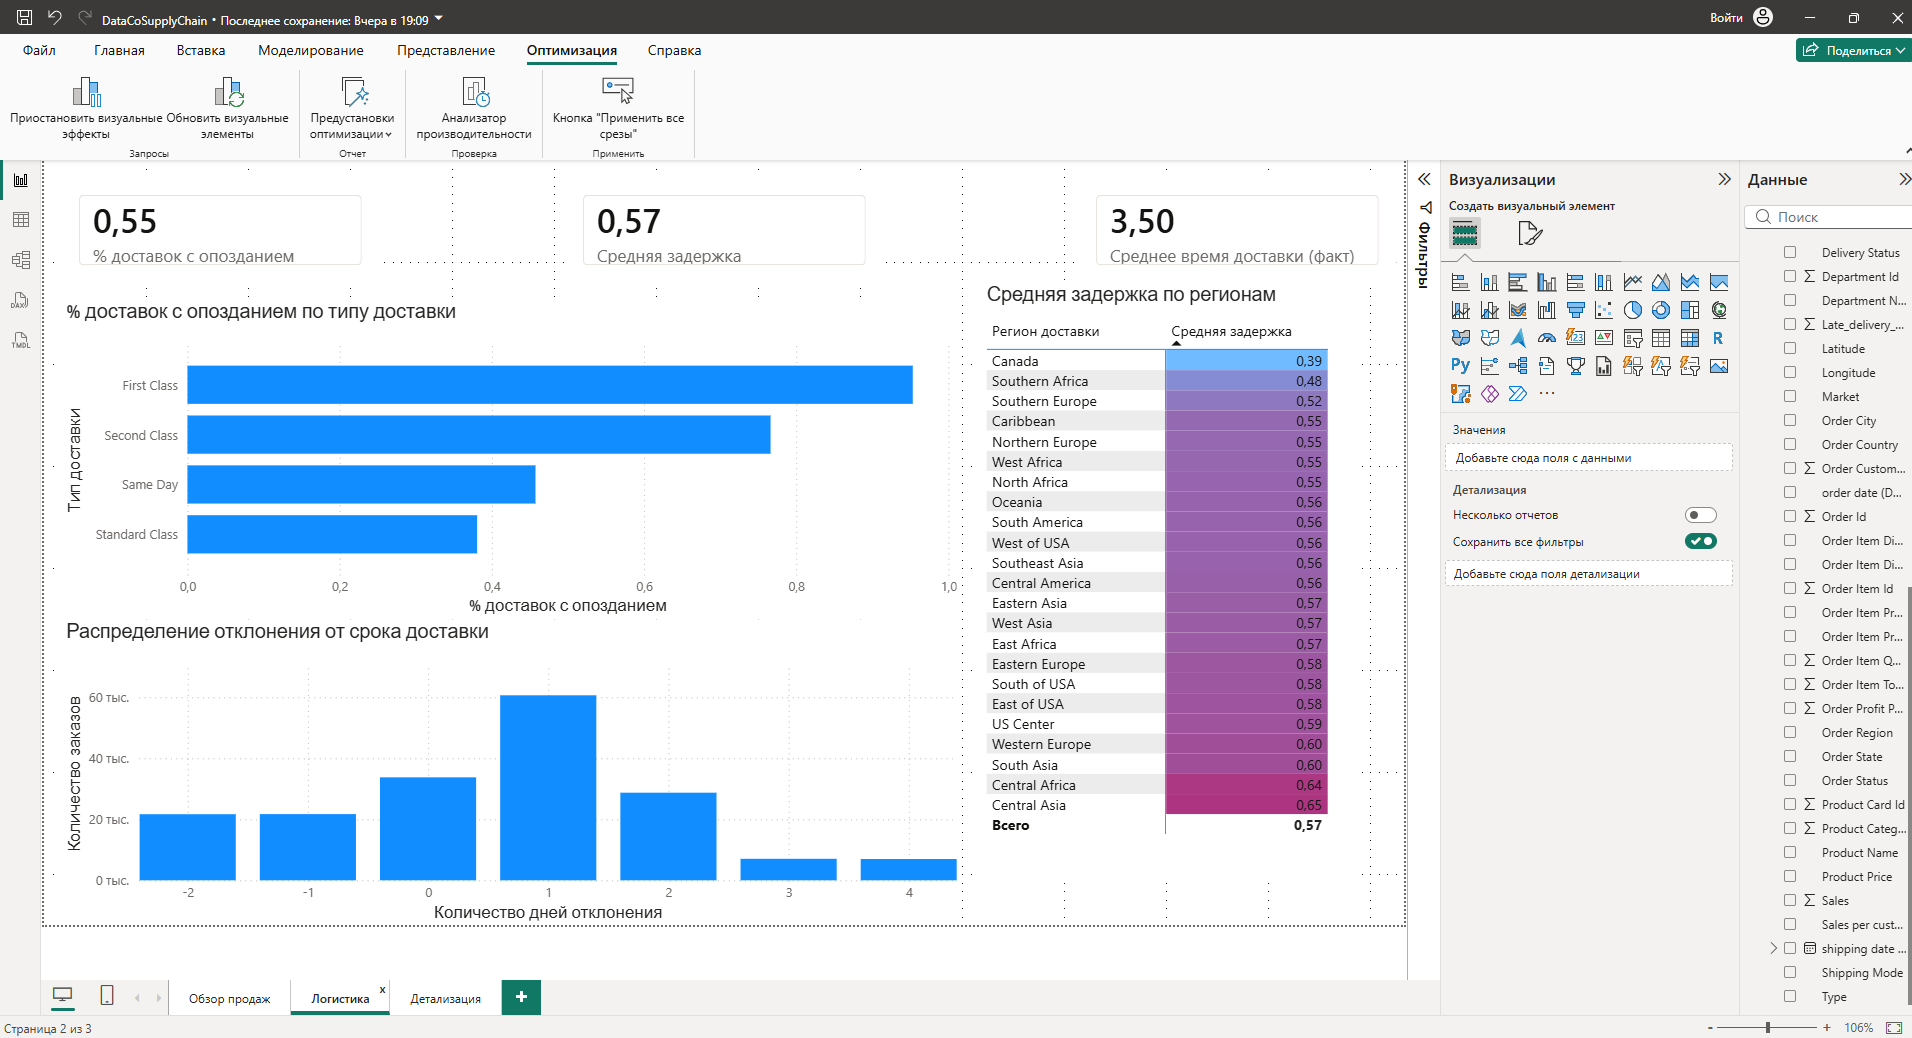

Layout of this report page (visuals, bound fields, positions):
{"tool":"powerbi","page":{"name":"Логистика","canvas":[1280,720],"ordinal":1},"visuals":[{"type":"cardVisual","fields":{"Data":["DataCoSupplyChainDataset.% доставок с опозданием"]},"box":[16,16,300,100],"z":0},{"type":"cardVisual","fields":{"Data":["DataCoSupplyChainDataset.Средняя задержка"]},"box":[489.9,15.8,300,100],"z":1000},{"type":"cardVisual","fields":{"Data":["DataCoSupplyChainDataset.Среднее время доставки (факт)"]},"box":[972.9,15.8,300,100],"z":2000},{"type":"clusteredBarChart","title":"% доставок с опозданием по типу доставки","fields":{"Category":["DataCoSupplyChainDataset.Shipping Mode"],"Y":["DataCoSupplyChainDataset.% доставок с опозданием"]},"box":[15.8,131.6,848.2,300.9],"z":3000},{"type":"pivotTable","title":"Средняя задержка по регионам","fields":{"Rows":["DataCoSupplyChainDataset.Order Region"],"Values":["DataCoSupplyChainDataset.Средняя задержка"]},"box":[876.9,115.8,358.3,561.2],"z":4000},{"type":"columnChart","title":"Распределение отклонения от срока доставки","fields":{"Category":["DataCoSupplyChainDataset.Delivery Delay (ячейки)"],"Y":["CountNonNull(DataCoSupplyChainDataset.Delivery Delay)"]},"box":[15.8,432.5,848.2,288],"z":5000}]}

Visuals, with their boxes on the page's 1280x720 design canvas (x1, y1, x2, y2). These are canvas units, not pixel positions in the 1912x1038 screenshot, which may show the page scaled, cropped or inside an application window:
cardVisual - DataCoSupplyChainDataset.% доставок с опозданием: [x1=16, y1=16, x2=316, y2=116]
cardVisual - DataCoSupplyChainDataset.Средняя задержка: [x1=490, y1=16, x2=790, y2=116]
cardVisual - DataCoSupplyChainDataset.Среднее время доставки (факт): [x1=973, y1=16, x2=1273, y2=116]
"% доставок с опозданием по типу доставки" clusteredBarChart: [x1=16, y1=132, x2=864, y2=432]
"Средняя задержка по регионам" pivotTable: [x1=877, y1=116, x2=1235, y2=677]
"Распределение отклонения от срока доставки" columnChart: [x1=16, y1=432, x2=864, y2=720]
